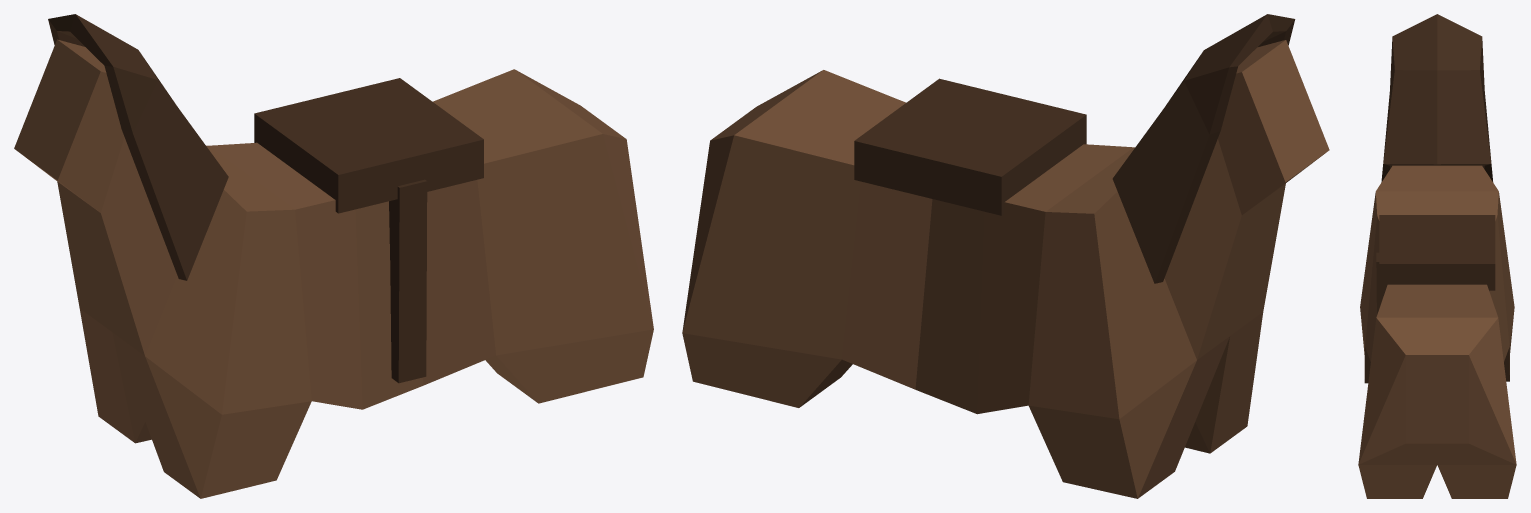
The model's file is Tors.fbx.
3 renders of one model, left to right at view 1: azimuth 30°, elevation 25°; view 2: azimuth 150°, elevation 25°; view 3: azimuth 270°, elevation 25°, orthographic. The views are drawn at different scales.
Parts seen in each view (by area): view 1: pCube131; view 2: pCube131; view 3: pCube131.
Part boxes in pixels (<box>): pCube131: <box>14,14,653,498</box>; pCube131: <box>682,14,1329,498</box>; pCube131: <box>1358,14,1516,498</box>.
Bounding box in the file's own units: 1.76 × 1.37 × 0.6171.
